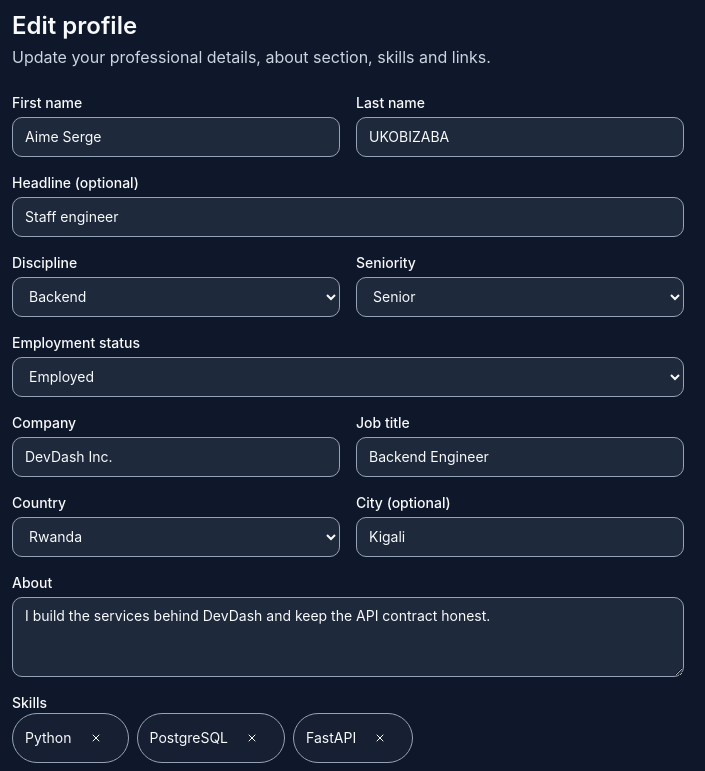
MF-08 profile editor › shows company and job title only when employed or freelance
Expected: the field labelled "First name" is shown, [12,117,340,157]
Expected: the field labelled "Company" is shown, [12,437,340,477]
Select "Student" in the dropdown labelled "Employment status". click: [348, 377]
box: [12,357,684,397]
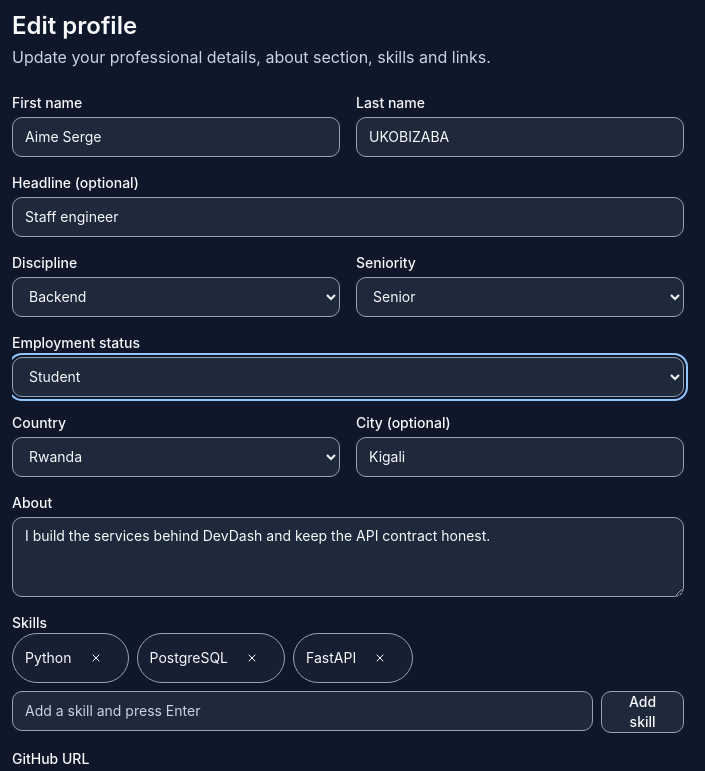
Now the label labelled "Company" is gone
